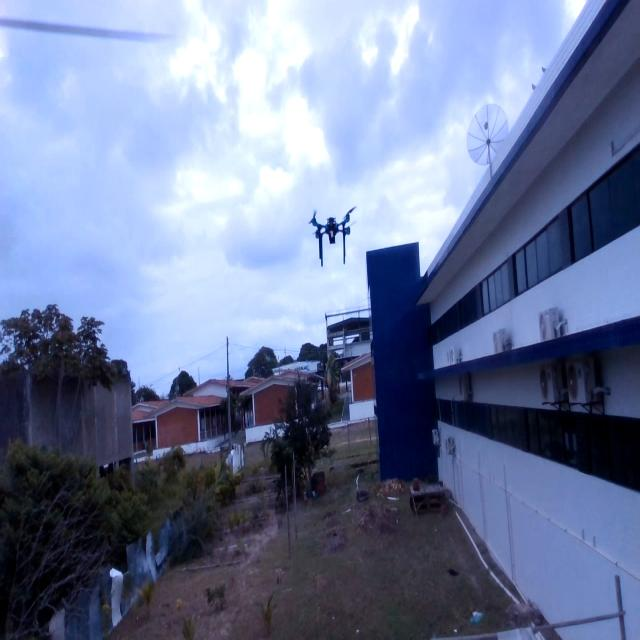-uav-: (304, 197, 358, 267)
